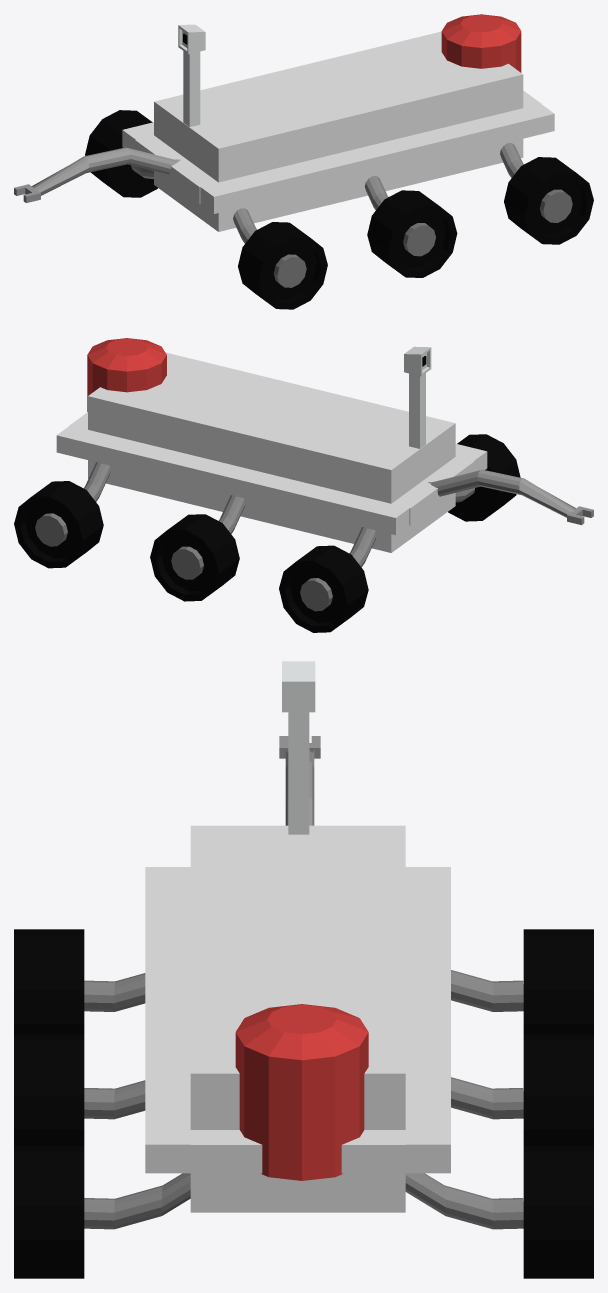
The model's file is Rover.fbx.
The picture shows the model from 3 angles, top to bottom: view 1: azimuth 30°, elevation 25°; view 2: azimuth 150°, elevation 25°; view 3: azimuth 270°, elevation 25°; orthographic projection. The views are drawn at different scales.
Parts seen in each view (by area): view 1: Body, Wheel, Cylinder, Arm, Hub, Stalk, Axle; view 2: Body, Wheel, Cylinder, Arm, Hub, Axle, Stalk; view 3: Body, Wheel, Cylinder, Axle, Stalk, Arm.
Boxes of the visible parts, bbox=[...] form: Body: bbox=[122, 31, 554, 231]; Wheel: bbox=[85, 110, 593, 309]; Cylinder: bbox=[441, 14, 521, 72]; Arm: bbox=[14, 147, 180, 202]; Hub: bbox=[273, 189, 572, 287]; Stalk: bbox=[178, 24, 205, 126]; Axle: bbox=[131, 143, 523, 243]; Body: bbox=[56, 352, 487, 552]; Wheel: bbox=[14, 434, 520, 632]; Cylinder: bbox=[87, 338, 166, 411]; Arm: bbox=[428, 469, 593, 525]; Hub: bbox=[35, 513, 332, 611]; Axle: bbox=[83, 462, 474, 567]; Stalk: bbox=[404, 346, 431, 448]; Body: bbox=[145, 825, 450, 1212]; Wheel: bbox=[14, 929, 593, 1278]; Cylinder: bbox=[235, 1004, 368, 1180]; Axle: bbox=[84, 970, 523, 1229]; Stalk: bbox=[282, 661, 315, 834]; Arm: bbox=[279, 736, 320, 825].
Bounding box in the file's own units: 1437 × 621 × 871.
